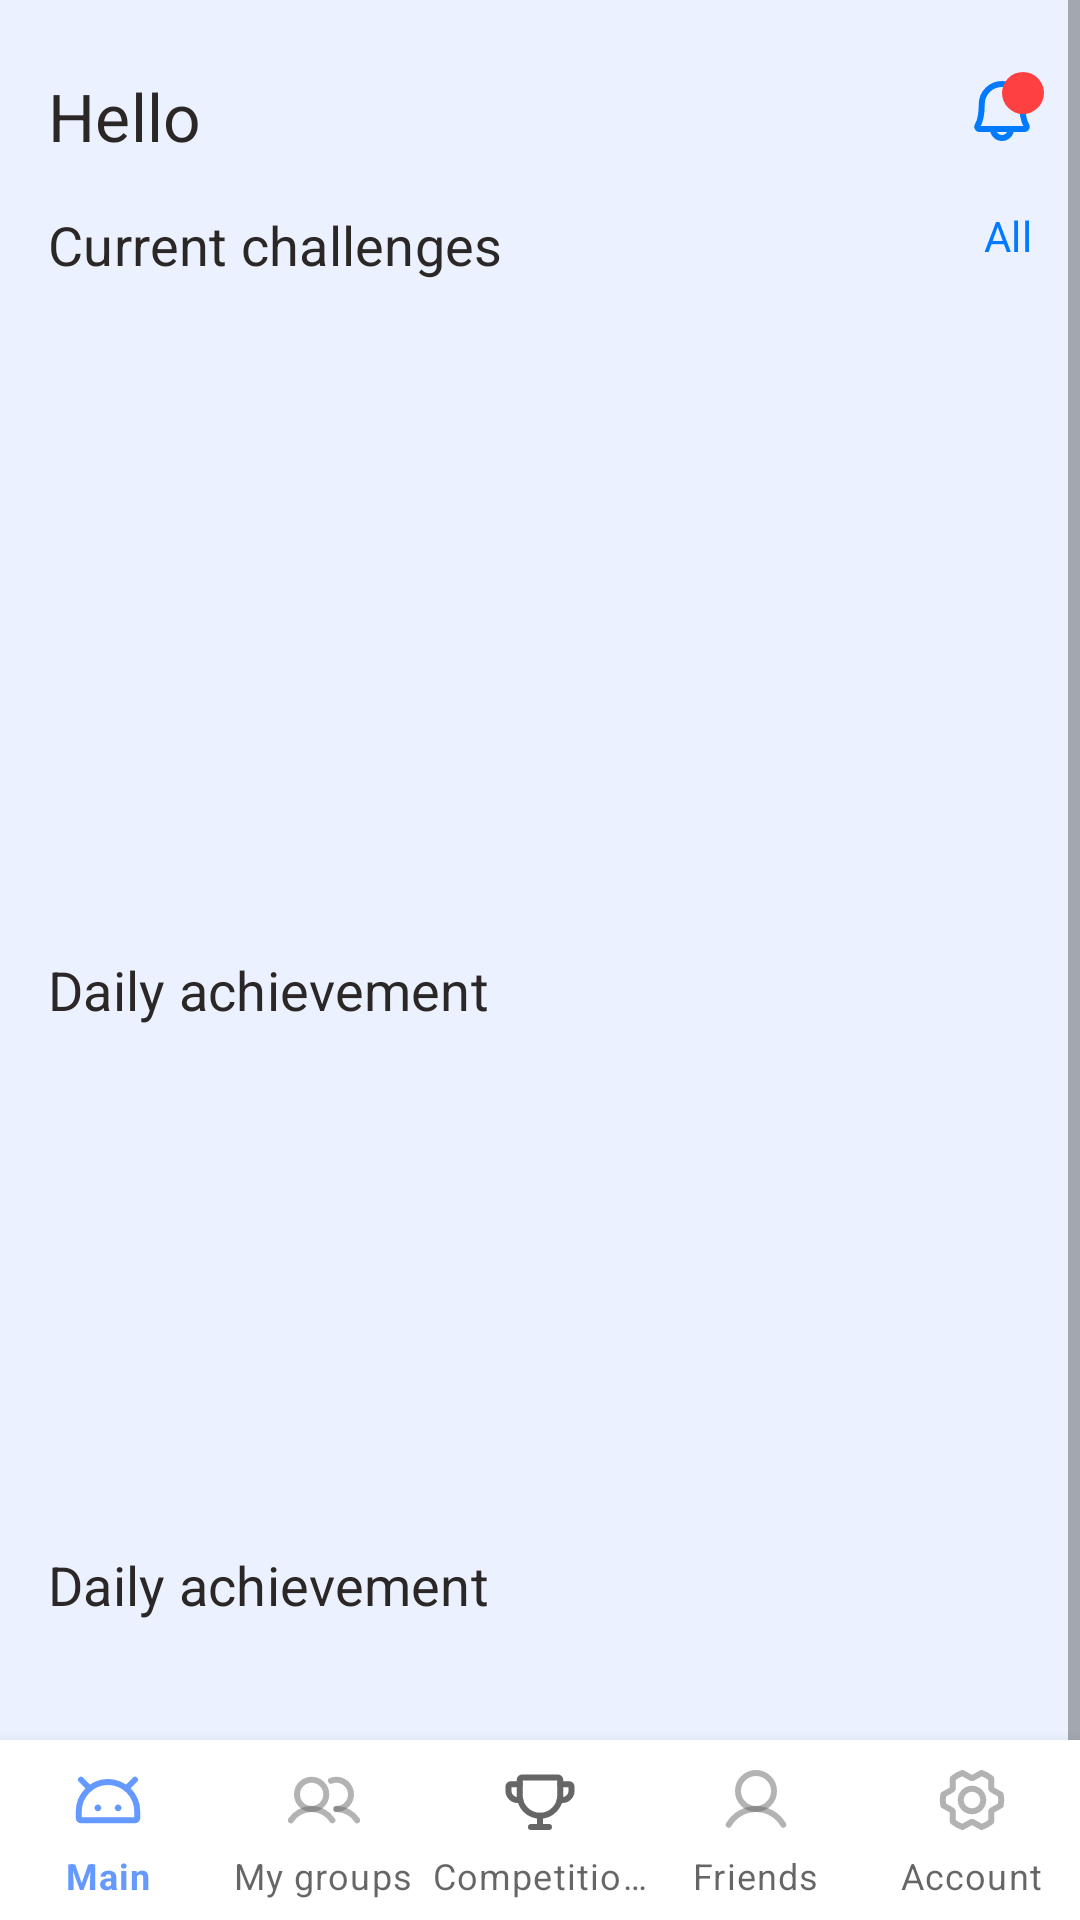

Screen size 1080x1920. Icon name, then its box in pixels as region(x1, y1, x2, y2):
bell: region(974, 81, 1032, 141)
